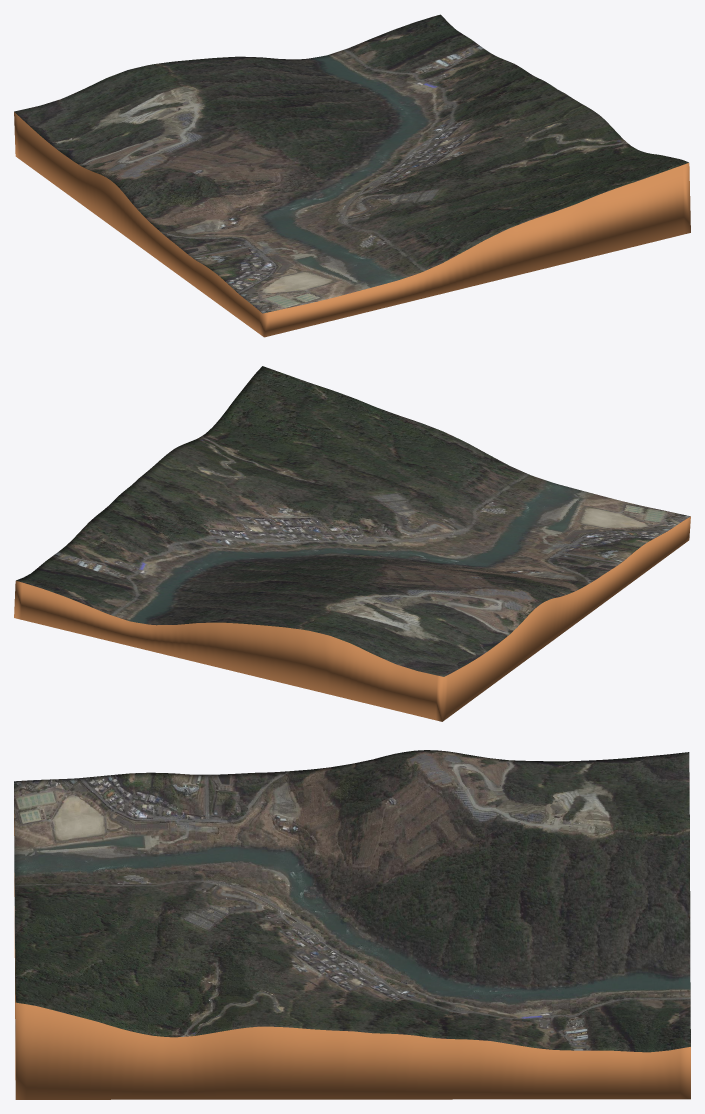
File: world03.dae
3 views of the same model, one above another, from view 1: azimuth 30°, elevation 25°; view 2: azimuth 150°, elevation 25°; view 3: azimuth 270°, elevation 25° (orthographic). The views are drawn at different scales.
Visible parts, largest first — view 1: EXPORT_GOOGLE_SAT_WM; view 2: EXPORT_GOOGLE_SAT_WM; view 3: EXPORT_GOOGLE_SAT_WM.
Boxes of the visible parts, x1,y1,x2,y2 form: EXPORT_GOOGLE_SAT_WM: (14,14,690,337); EXPORT_GOOGLE_SAT_WM: (14,366,690,721); EXPORT_GOOGLE_SAT_WM: (14,750,690,1099).
Size of the model in its own units: 100 by 100 by 15.72.
Materials: 2 (1 with a texture image).
